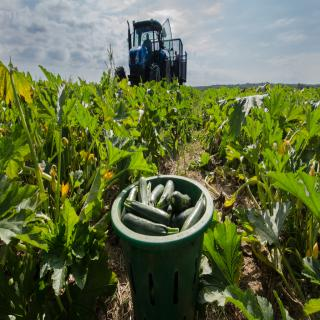Cucumber: (122, 179, 208, 237)
